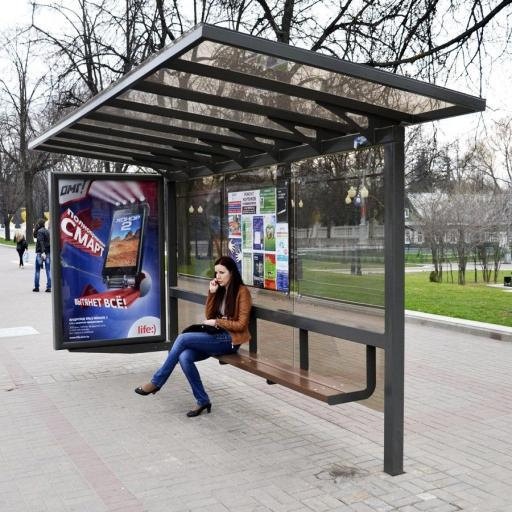bicycle: (28, 23, 490, 481)
crosswalk: (134, 252, 256, 417)
